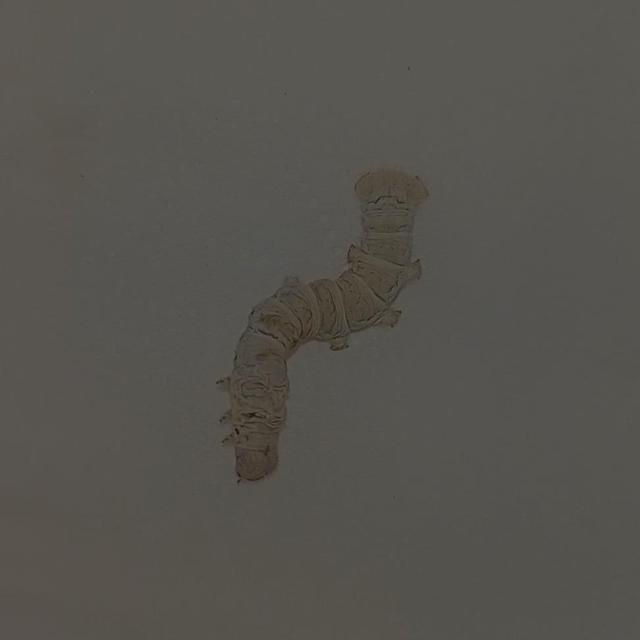Healthy: (160, 129, 480, 506)
